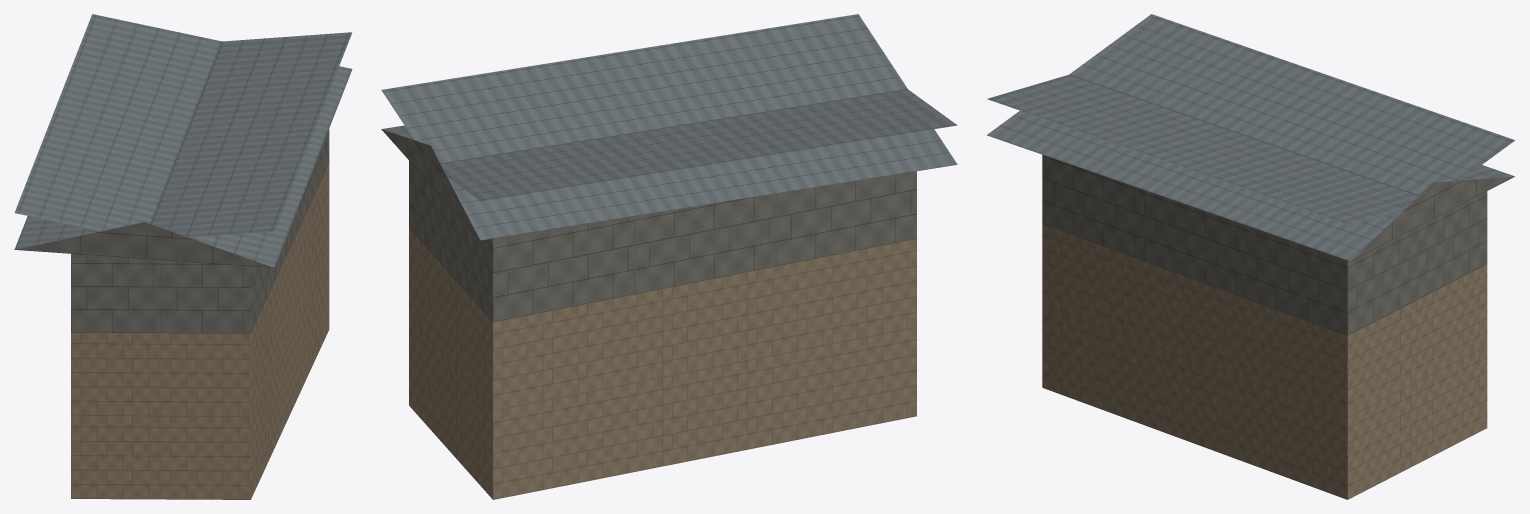
The model's file is bld_c-26_31_777.gltf.
3 views of the same model, side by side, from view 1: azimuth 30°, elevation 25°; view 2: azimuth 150°, elevation 25°; view 3: azimuth 270°, elevation 25° (orthographic). The views are drawn at different scales.
Visible parts, largest first — view 1: bld_c-26_31_777; view 2: bld_c-26_31_777; view 3: bld_c-26_31_777.
Part boxes in pixels (x1,y1,x2,y2): bld_c-26_31_777: [14, 14, 352, 499]; bld_c-26_31_777: [381, 14, 957, 499]; bld_c-26_31_777: [987, 14, 1515, 499].
Bounding box in the file's own units: 12.49 × 7.9 × 13.22.
4 materials, 4 textured.
